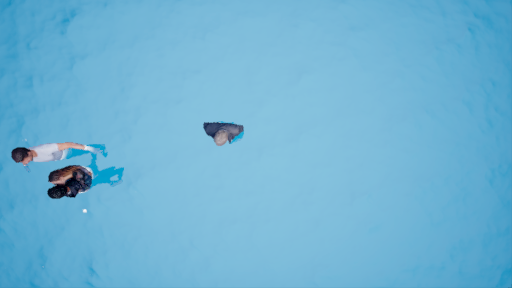person: (41, 157, 134, 200), (10, 135, 113, 172), (190, 116, 258, 149)
